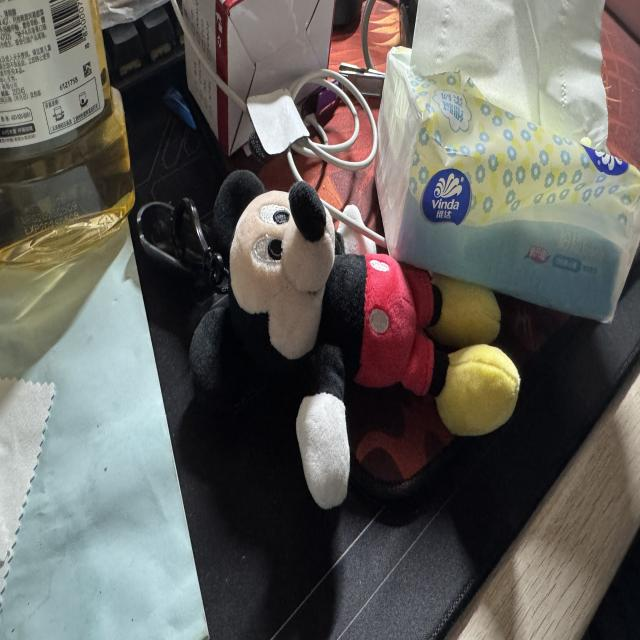mickey: (190, 172, 519, 508)
tissue: (376, 48, 639, 320), (411, 0, 607, 148), (0, 379, 54, 608), (98, 0, 166, 29)
